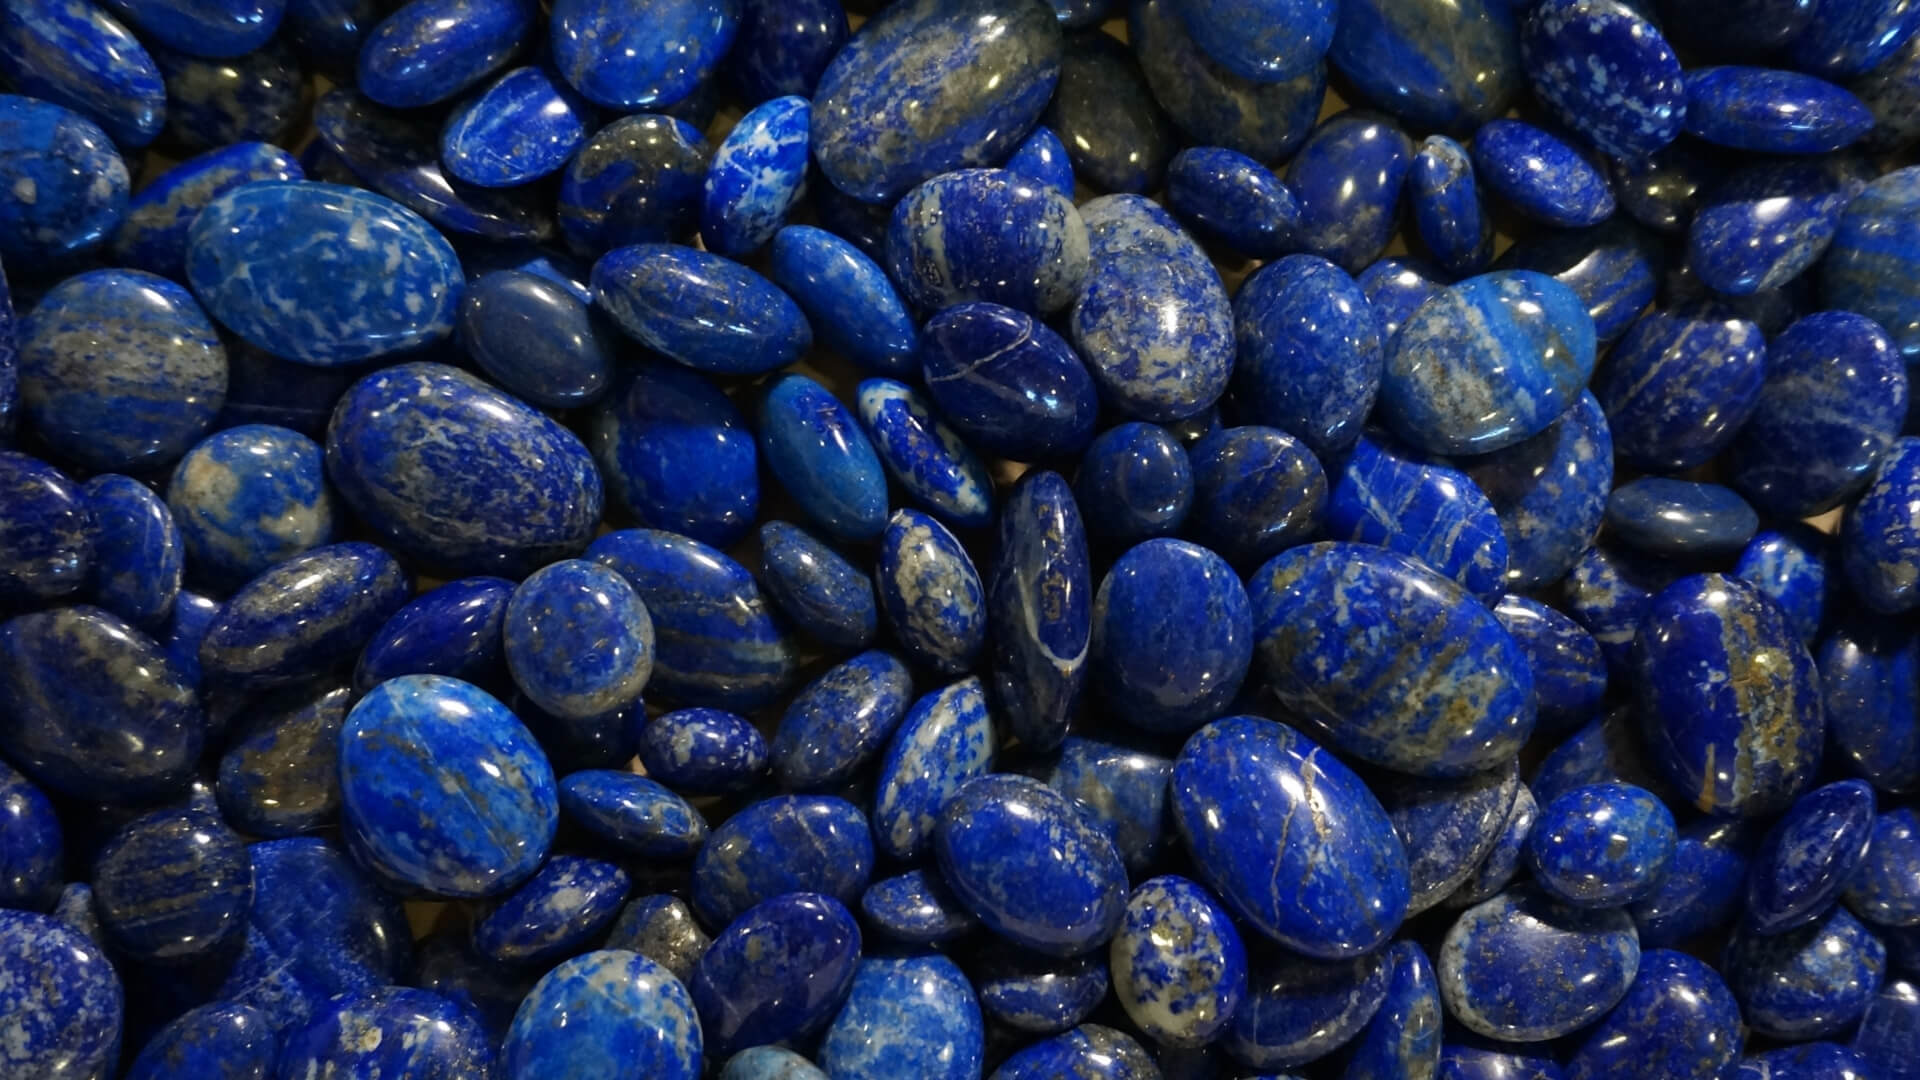Lapis_Lazuli: (57, 82, 1768, 990)
